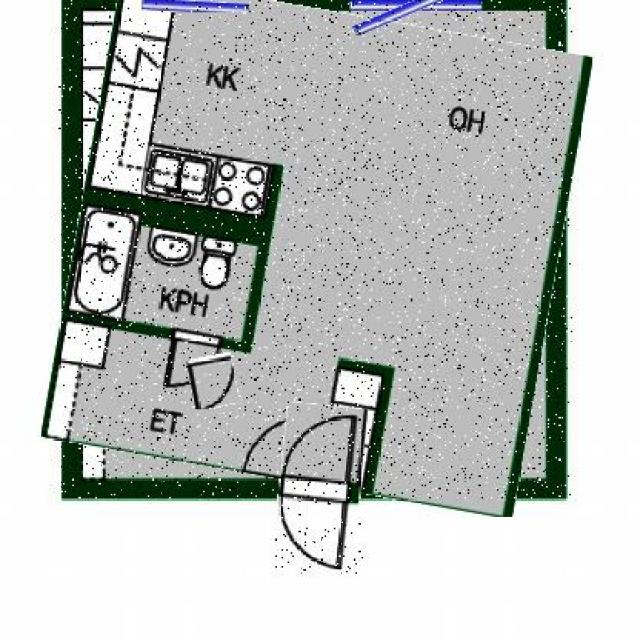door: (275, 403, 363, 574), (189, 354, 237, 408)
window: (351, 0, 477, 23), (142, 0, 248, 11)
zone: (58, 0, 572, 498)
